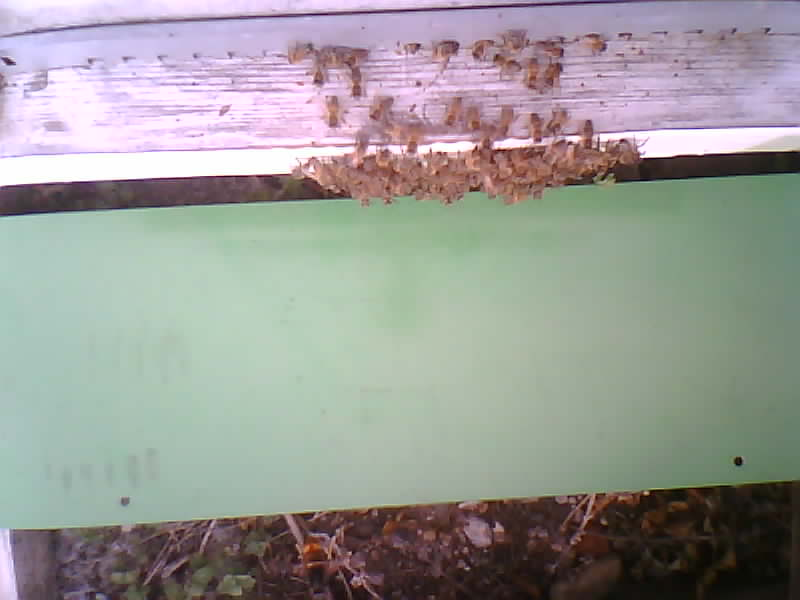bee: (305, 150, 644, 203), (333, 102, 611, 148), (426, 30, 570, 91), (299, 46, 373, 98)
hornet: (294, 535, 343, 593)
